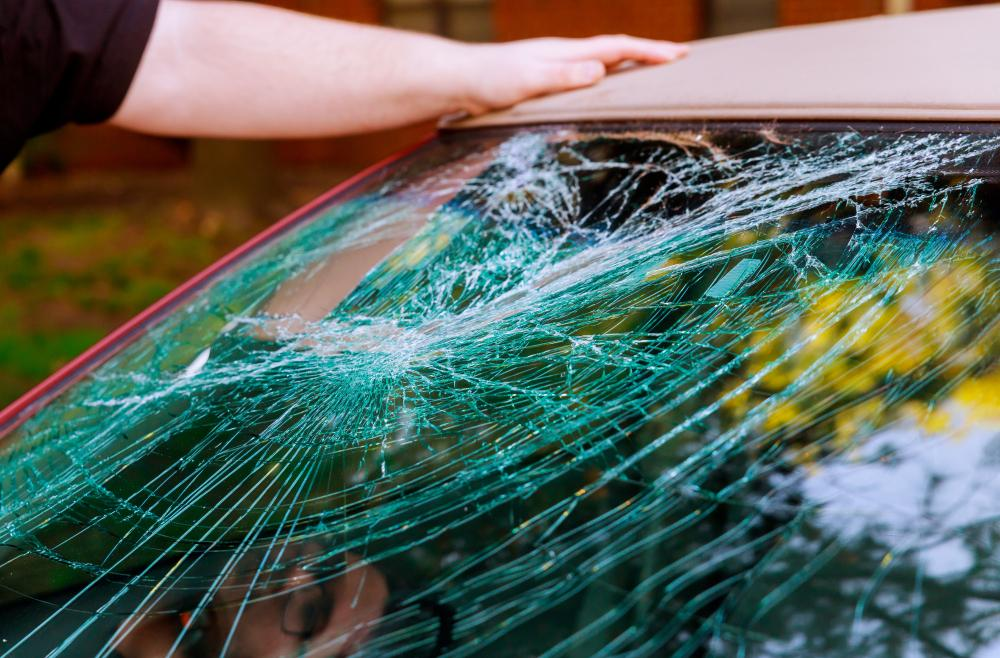glass shatter: (0, 130, 1000, 658)
